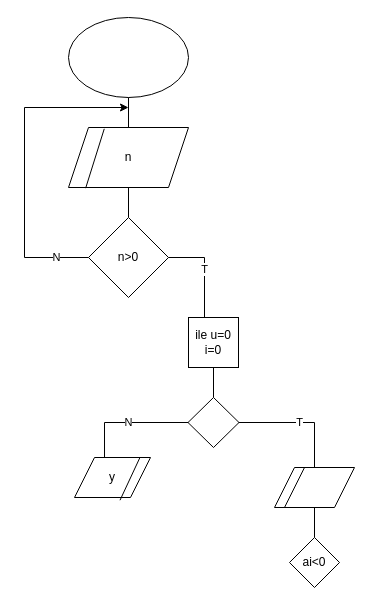
This 372x605 diagram has some shape labels left out. Here are the shapes that lost their labels. From the top down, the centre of each, then its label:
the point at 128,57: Start
the point at 213,422: i<n
the point at 314,487: ai
